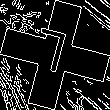L_S: (34, 27, 76, 83)
